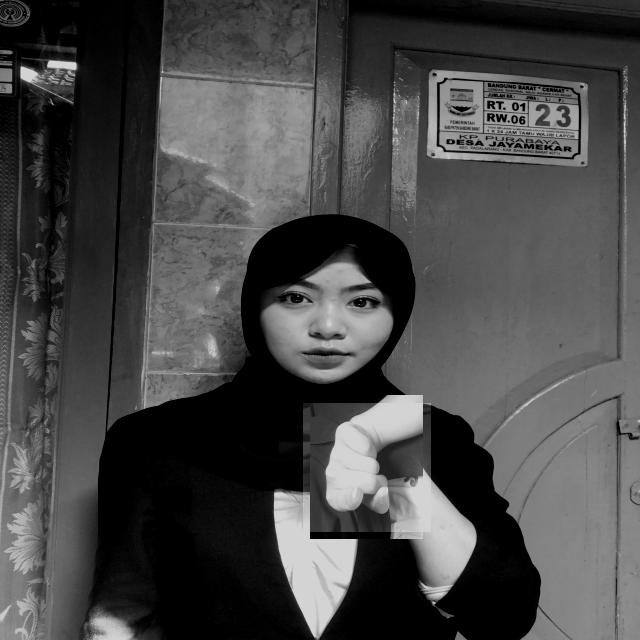kamu: (303, 403, 431, 532)
